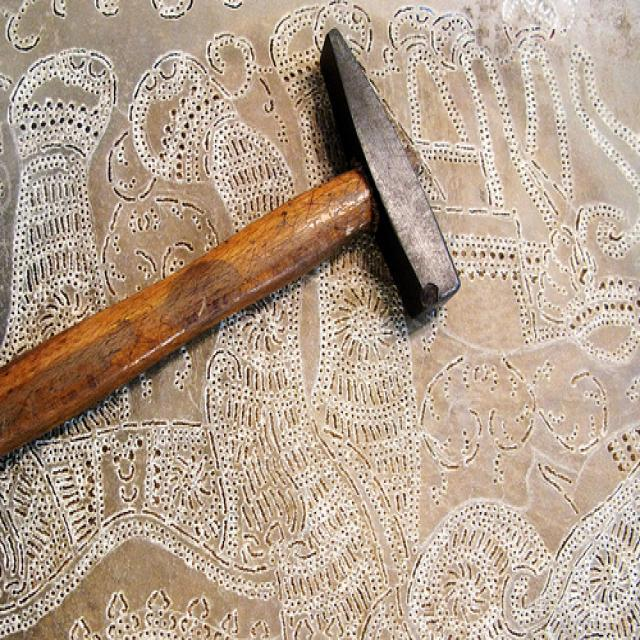hammer: (0, 18, 470, 458)
